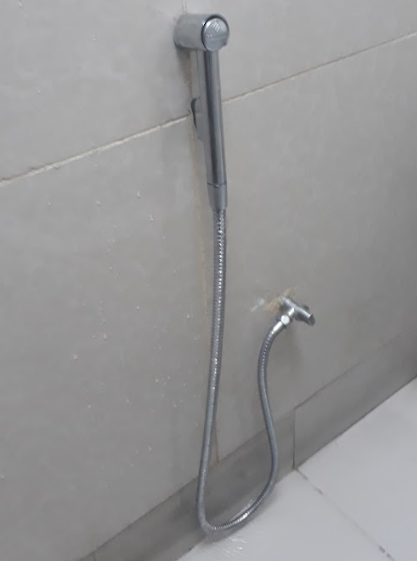Toilet: (85, 4, 366, 551)
